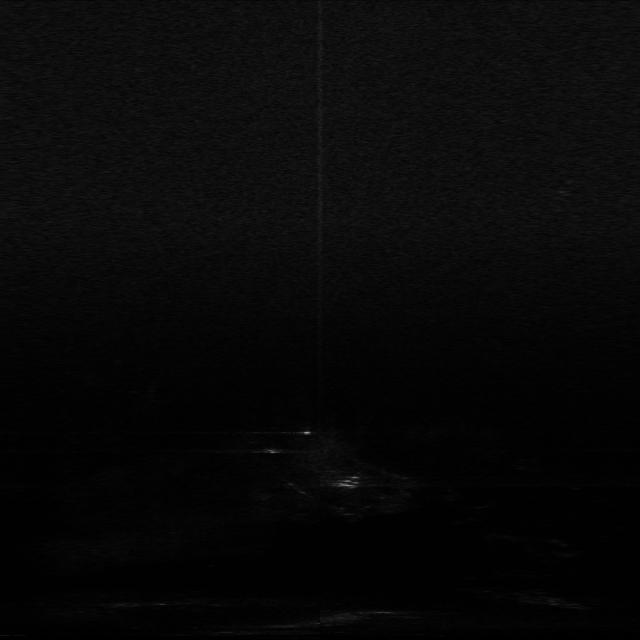rov: (337, 473, 369, 489)
